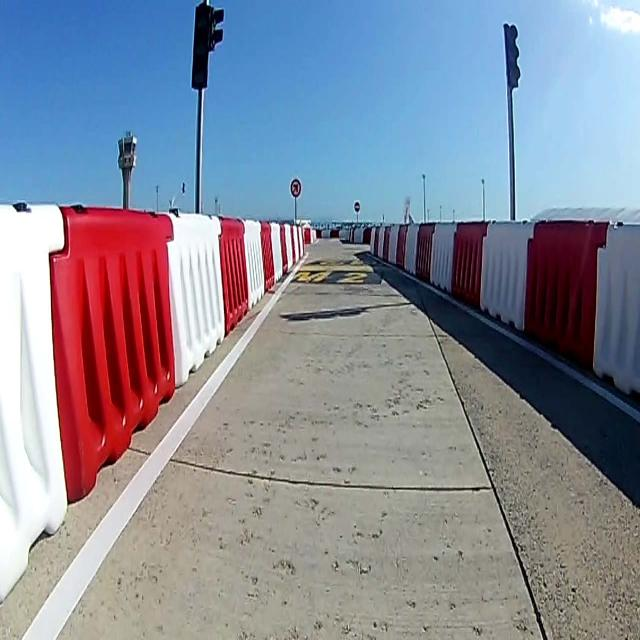girisyok: (354, 202, 360, 213)
soladonulmez: (290, 179, 302, 197)
